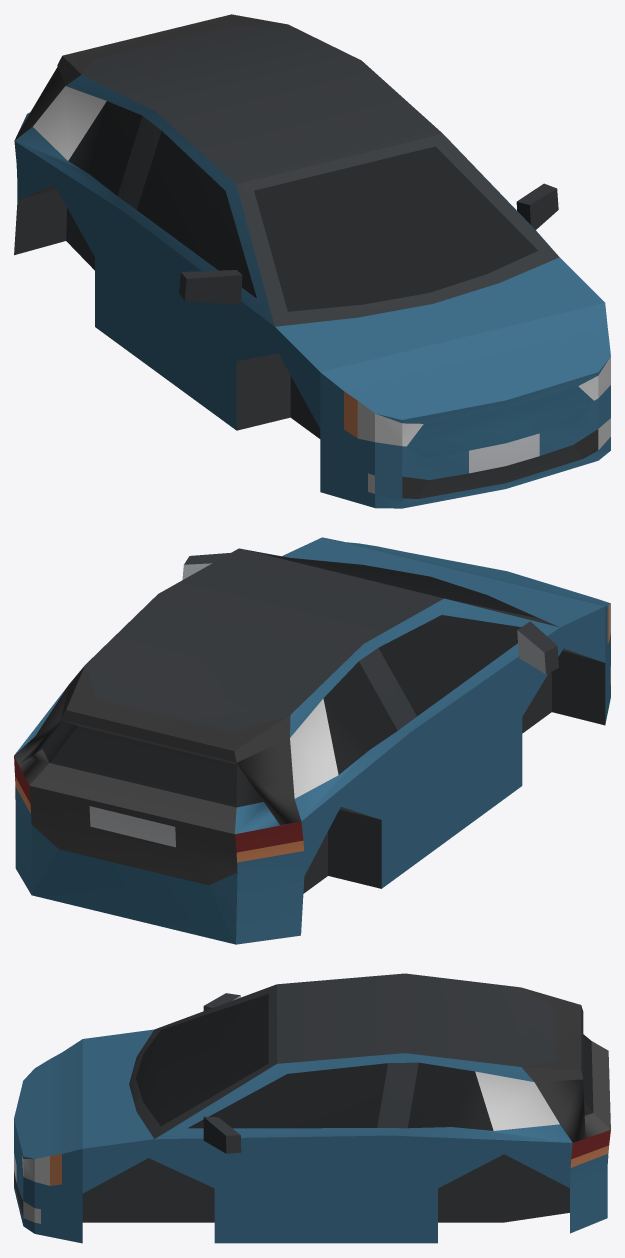
3 views of the same model, one above another, from view 1: azimuth 30°, elevation 25°; view 2: azimuth 150°, elevation 25°; view 3: azimuth 270°, elevation 25° (orthographic). The views are drawn at different scales.
Visible parts, largest first — view 1: SM_Veh_Car_Small_01; view 2: SM_Veh_Car_Small_01; view 3: SM_Veh_Car_Small_01.
Part boxes in pixels (<box>): SM_Veh_Car_Small_01: <box>14,14,610,508</box>; SM_Veh_Car_Small_01: <box>14,537,610,944</box>; SM_Veh_Car_Small_01: <box>14,973,610,1243</box>.
Size of the model in its own units: 68.63 by 38.96 by 120.
1 material, 1 textured.
